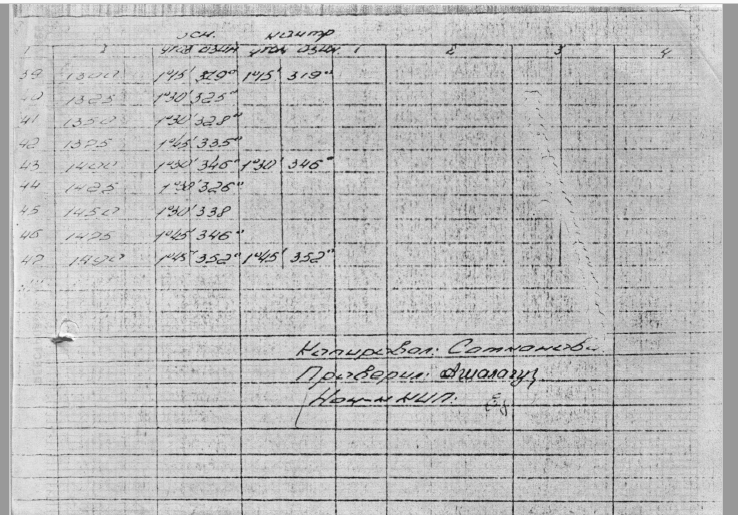Borderless: (6, 5, 730, 515)
